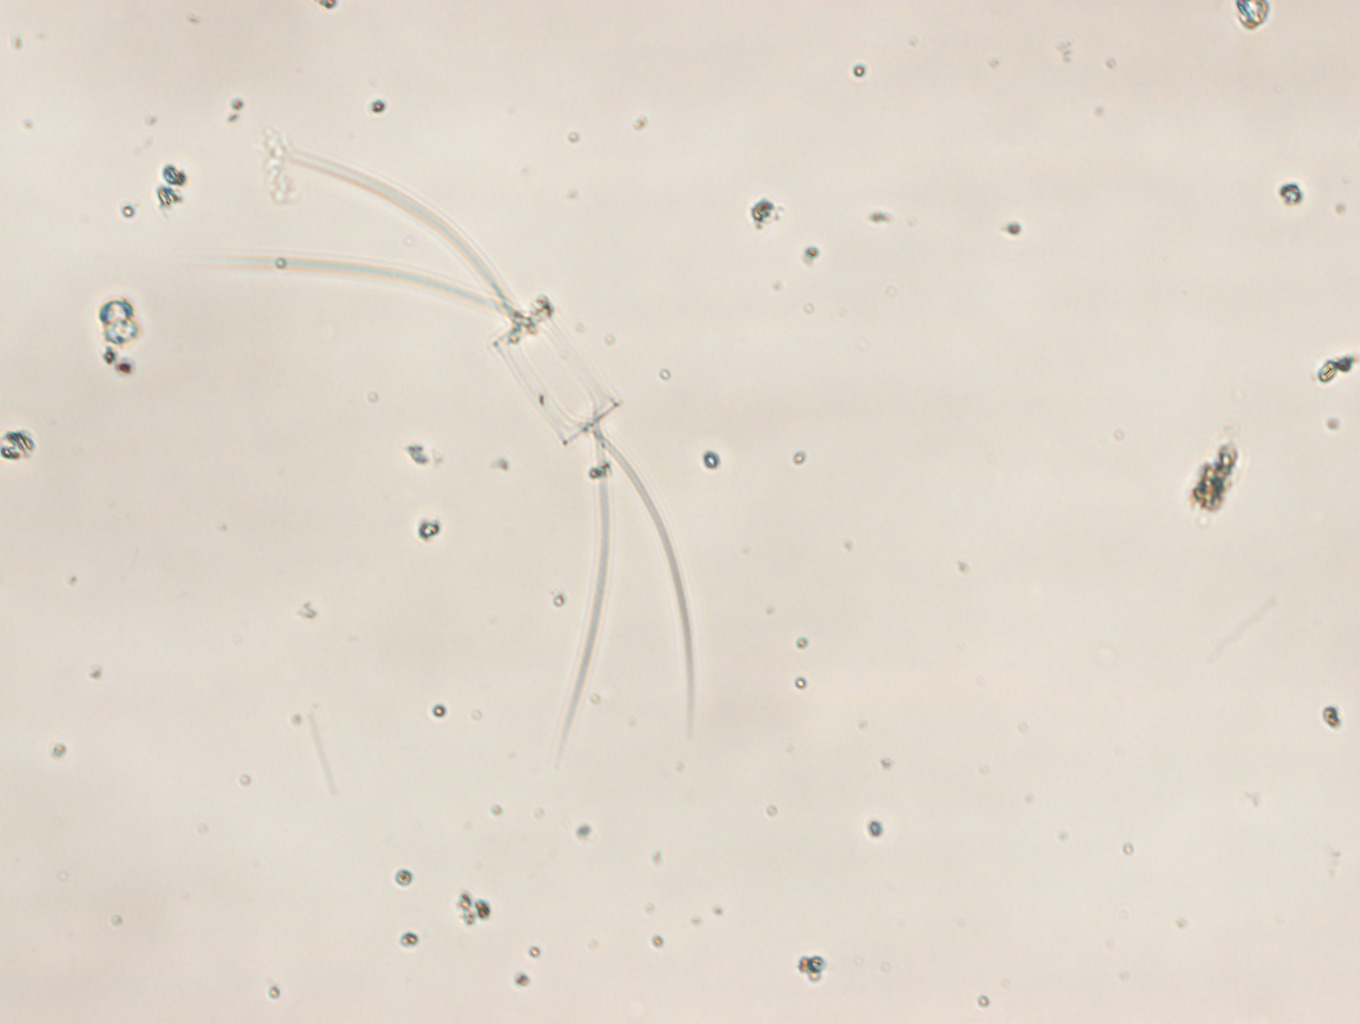skeletonema: (213, 150, 697, 768)
